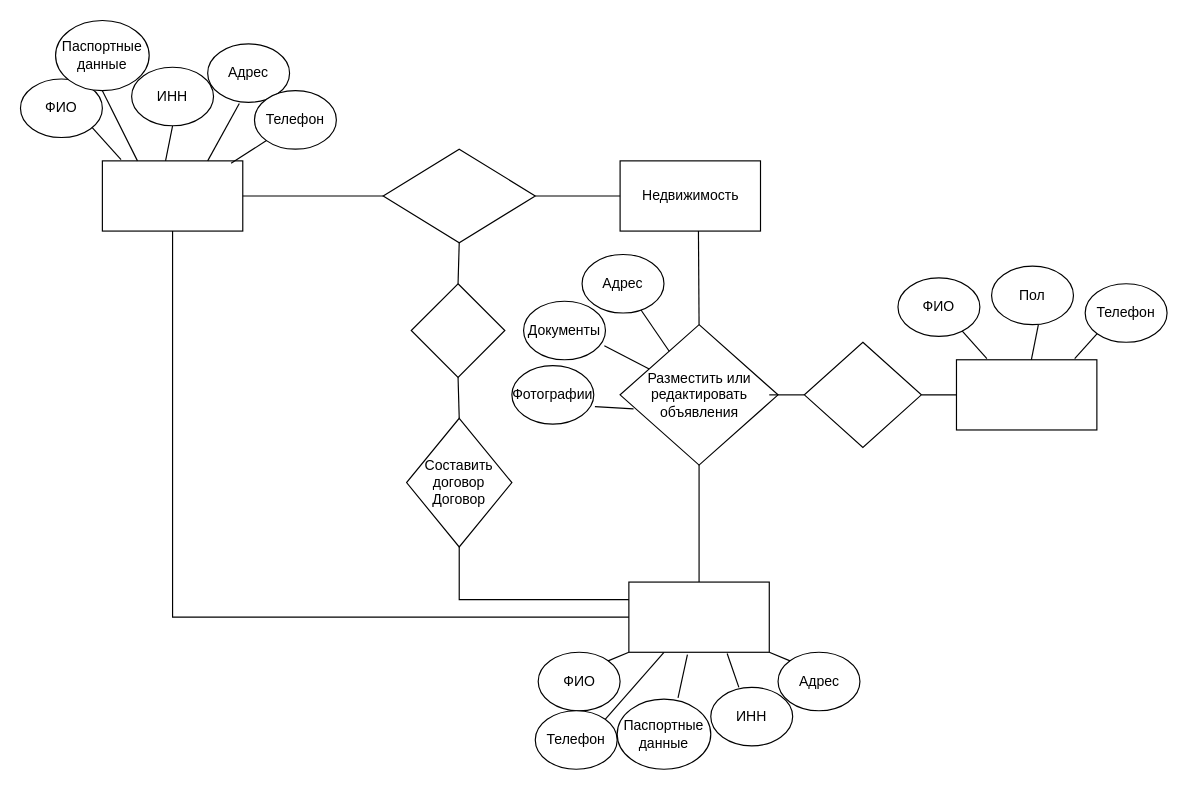
Some shapes in this 1188 by 790 pixel diagram are drawn without their labels. Each missing label, with the box of its shape:
Администратор: (955, 359, 1097, 430)
Выбрать: (382, 148, 535, 243)
Клиент: (101, 160, 243, 231)
Оставить заявку: (410, 283, 505, 377)
Продавец: (628, 581, 769, 652)
Проыерка объявлений: (803, 341, 921, 448)
